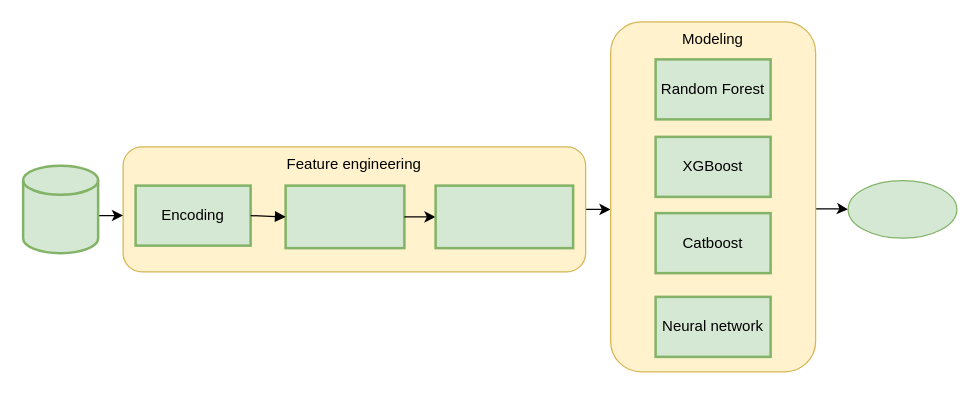
Some shapes in this 979 by 394 pixel diagram are drawn without their labels. Here are the shapes that lost their labels. From the top down, the centre of each, then its label:
At (60,209): "Data".
At (344,216): "Feature creation".
At (504,216): "Data grouping and aggregation".
At (902,208): "Prediction".
